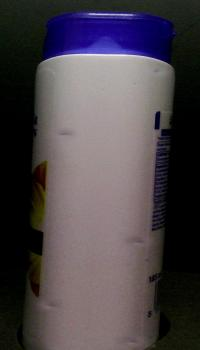dent_marginal: (49, 120, 90, 142), (120, 323, 148, 346), (122, 230, 157, 246), (148, 61, 177, 79), (35, 300, 75, 310)
